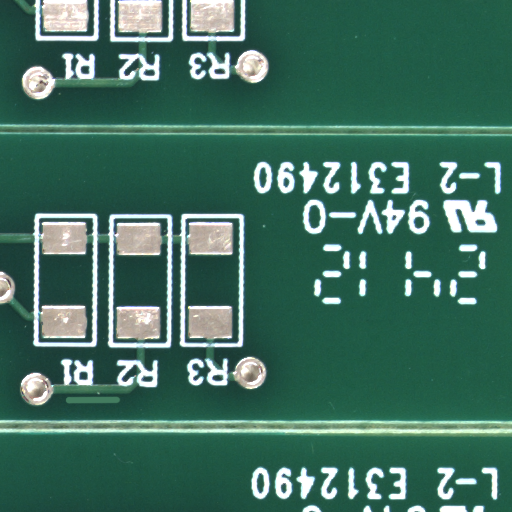Spurious_copper: (92, 399, 151, 410)
